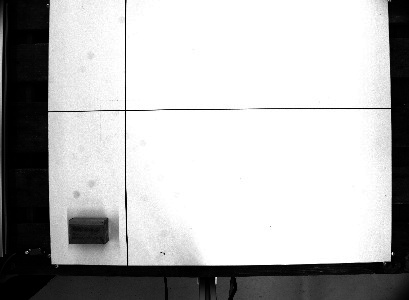b1: (65, 216, 111, 246)
